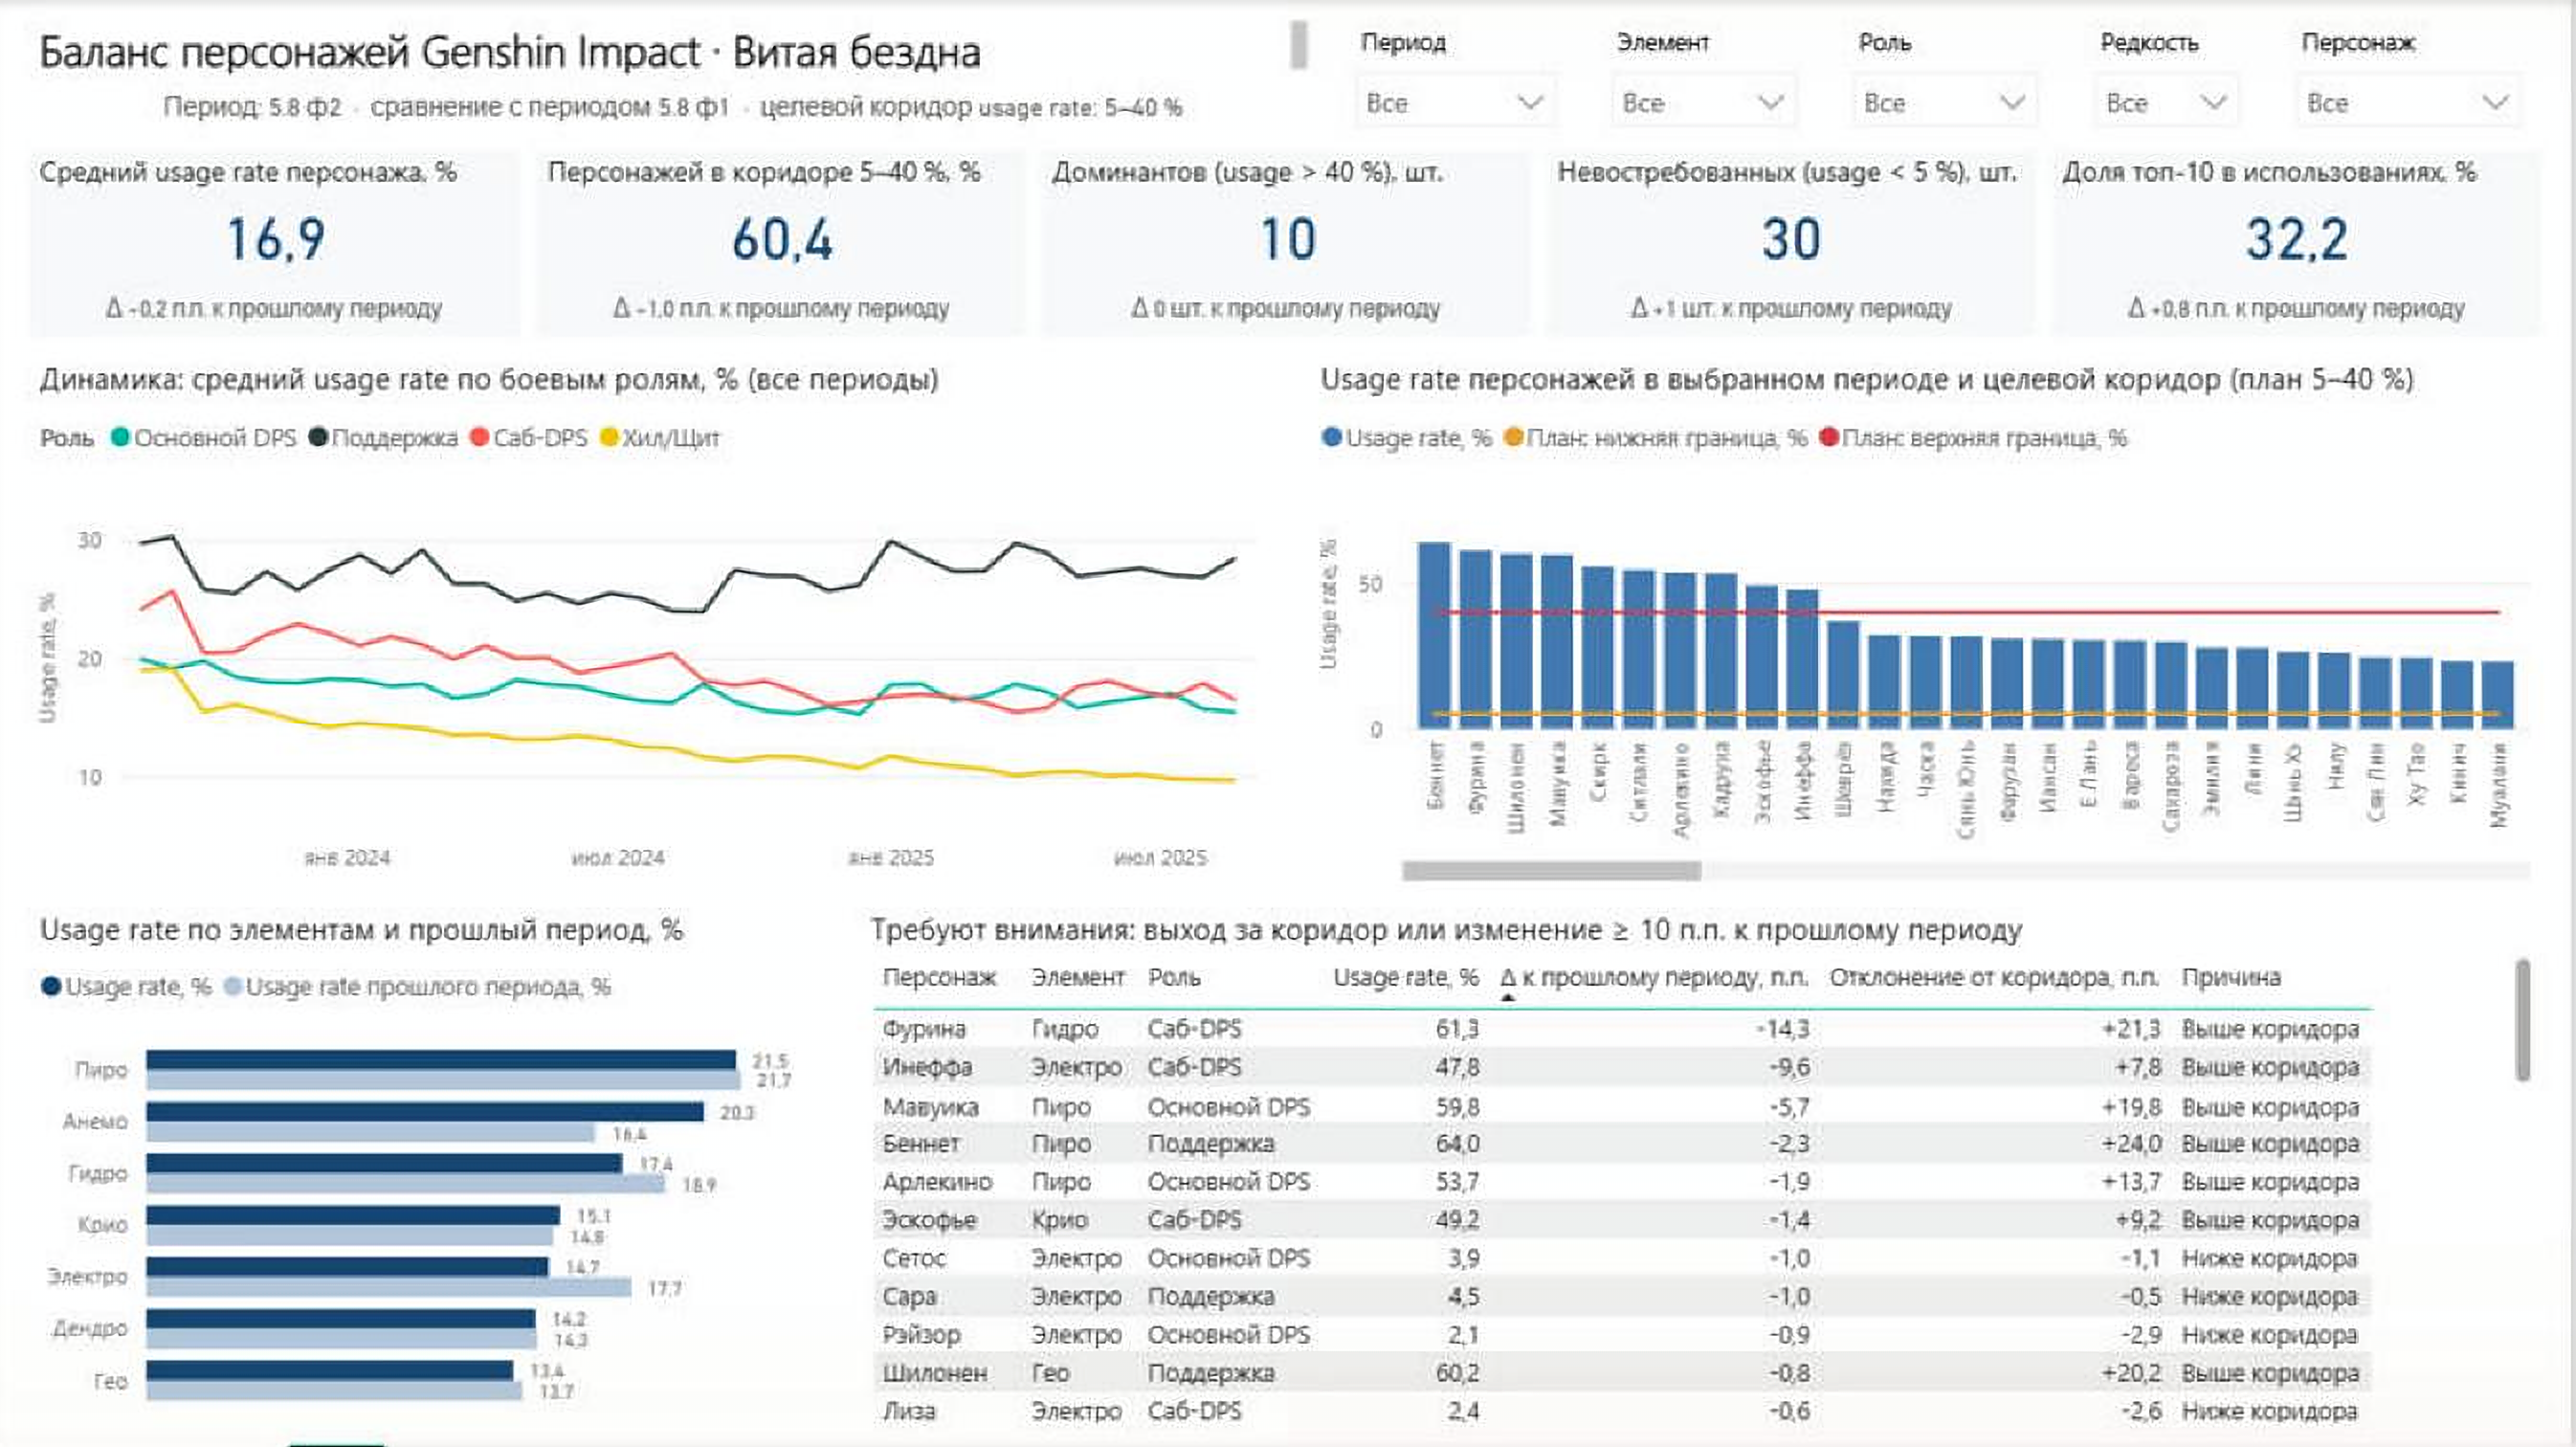

This screenshot's page, from the dashboard's own definition file:
{"tool":"powerbi","page":{"name":"Баланс персонажей","canvas":[1280,720],"ordinal":0},"visuals":[{"type":"textbox","box":[16,6,640,36],"z":1000},{"type":"card","fields":{"Values":["fact_abyss_usage.Подпись периода"]},"box":[16,42,640,28],"z":2000},{"type":"slicer","fields":{"Values":["Выбор периода.Период"]},"box":[664,8,120,58],"z":3000},{"type":"slicer","fields":{"Values":["dim_character.Элемент"]},"box":[792,8,112,58],"z":4000},{"type":"slicer","fields":{"Values":["dim_character.Роль"]},"box":[912,8,112,58],"z":5000},{"type":"slicer","fields":{"Values":["dim_character.Редкость"]},"box":[1032,8,92,58],"z":6000},{"type":"slicer","fields":{"Values":["dim_character.Персонаж"]},"box":[1132,8,132,58],"z":7000},{"type":"card","title":"Средний usage rate персонажа, %","fields":{"Values":["fact_abyss_usage.Usage rate, %"]},"box":[16,76,243,66],"z":8000},{"type":"card","fields":{"Values":["fact_abyss_usage.Δ текст: usage rate"]},"box":[16,142,243,26],"z":9000},{"type":"card","title":"Персонажей в коридоре 5–40 %, %","fields":{"Values":["fact_abyss_usage.В коридоре, %"]},"box":[268,76,243,66],"z":10000},{"type":"card","fields":{"Values":["fact_abyss_usage.Δ текст: в коридоре"]},"box":[267.9,141.7,243,26],"z":11000},{"type":"card","title":"Доминантов (usage > 40 %), шт.","fields":{"Values":["fact_abyss_usage.Доминантов (>40%)"]},"box":[519,76,243,66],"z":12000},{"type":"card","fields":{"Values":["fact_abyss_usage.Δ текст: доминанты"]},"box":[519,142,243,26],"z":13000},{"type":"card","title":"Невостребованных (usage < 5 %), шт.","fields":{"Values":["fact_abyss_usage.Невостребованных (<5%)"]},"box":[770,76,243,66],"z":14000},{"type":"card","fields":{"Values":["fact_abyss_usage.Δ текст: невостребованные"]},"box":[770,142,243,26],"z":15000},{"type":"card","title":"Доля топ-10 в использованиях, %","fields":{"Values":["fact_abyss_usage.Доля топ-10 в использованиях, %"]},"box":[1022,76,243,66],"z":16000},{"type":"card","fields":{"Values":["fact_abyss_usage.Δ текст: топ-10"]},"box":[1022,142,243,26],"z":17000},{"type":"lineChart","title":"Динамика: средний usage rate по боевым ролям, % (все периоды)","fields":{"Category":["dim_period.Начало"],"Series":["dim_character.Роль"],"Y":["fact_abyss_usage.Usage rate (динамика), %"]},"box":[16,178,628,266],"z":18000},{"type":"lineClusteredColumnComboChart","title":"Usage rate персонажей в выбранном периоде и целевой коридор (план 5–40 %)","fields":{"Category":["dim_character.Персонаж"],"Y":["fact_abyss_usage.Usage rate, %"],"Y2":["fact_abyss_usage.План: нижняя граница, %","fact_abyss_usage.План: верхняя граница, %"]},"box":[652,178,612,266],"z":19000},{"type":"clusteredBarChart","title":"Usage rate по элементам и прошлый период, %","fields":{"Category":["dim_character.Элемент"],"Y":["fact_abyss_usage.Usage rate, %","fact_abyss_usage.Usage rate прошлого периода, %"]},"box":[16,452,404,262],"z":20000},{"type":"tableEx","title":"Требуют внимания: выход за коридор или изменение ≥ 10 п.п. к прошлому периоду","fields":{"Values":["dim_character.Персонаж","dim_character.Элемент","dim_character.Роль","fact_abyss_usage.Внимание: usage rate, %","fact_abyss_usage.Внимание: Δ к прошлому периоду (пп)","fact_abyss_usage.Внимание: отклонение от коридора (пп)","fact_abyss_usage.Внимание: причина"]},"box":[428,452,836,262],"z":21000}]}

Visuals, with their boxes in screenshot pixels (x1, y1, x2, y2), scaled from the page's 1280x720 canvas onto the 2576x1447 screenshot:
textbox: [33, 12, 1321, 84]
card - fact_abyss_usage.Подпись периода: [33, 84, 1321, 141]
slicer - Выбор периода.Период: [1336, 16, 1578, 133]
slicer - dim_character.Элемент: [1594, 16, 1819, 133]
slicer - dim_character.Роль: [1835, 16, 2061, 133]
slicer - dim_character.Редкость: [2076, 16, 2262, 133]
slicer - dim_character.Персонаж: [2278, 16, 2543, 133]
"Средний usage rate персонажа, %" card: [33, 153, 522, 285]
card - fact_abyss_usage.Δ текст: usage rate: [33, 285, 522, 338]
"Персонажей в коридоре 5–40 %, %" card: [540, 153, 1029, 285]
card - fact_abyss_usage.Δ текст: в коридоре: [539, 285, 1028, 337]
"Доминантов (usage > 40 %), шт." card: [1045, 153, 1534, 285]
card - fact_abyss_usage.Δ текст: доминанты: [1045, 285, 1534, 338]
"Невостребованных (usage < 5 %), шт." card: [1549, 153, 2038, 285]
card - fact_abyss_usage.Δ текст: невостребованные: [1549, 285, 2038, 338]
"Доля топ-10 в использованиях, %" card: [2056, 153, 2545, 285]
card - fact_abyss_usage.Δ текст: топ-10: [2056, 285, 2545, 338]
"Динамика: средний usage rate по боевым ролям, % (все периоды)" lineChart: [33, 358, 1296, 892]
"Usage rate персонажей в выбранном периоде и целевой коридор (план 5–40 %)" lineClusteredColumnComboChart: [1312, 358, 2543, 892]
"Usage rate по элементам и прошлый период, %" clusteredBarChart: [33, 908, 845, 1435]
"Требуют внимания: выход за коридор или изменение ≥ 10 п.п. к прошлому периоду" tableEx: [861, 908, 2543, 1435]
